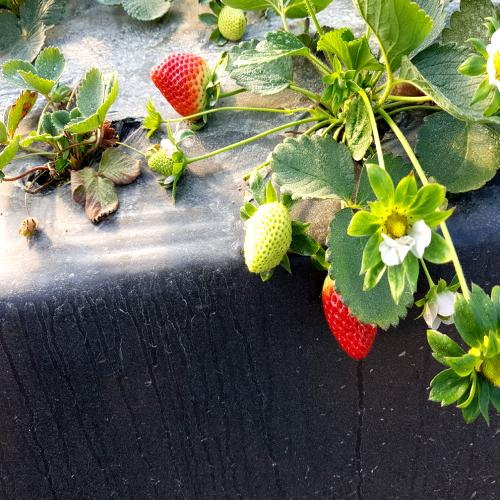ripe: (321, 254, 380, 374), (147, 47, 211, 118)
unripe: (240, 193, 295, 281)
